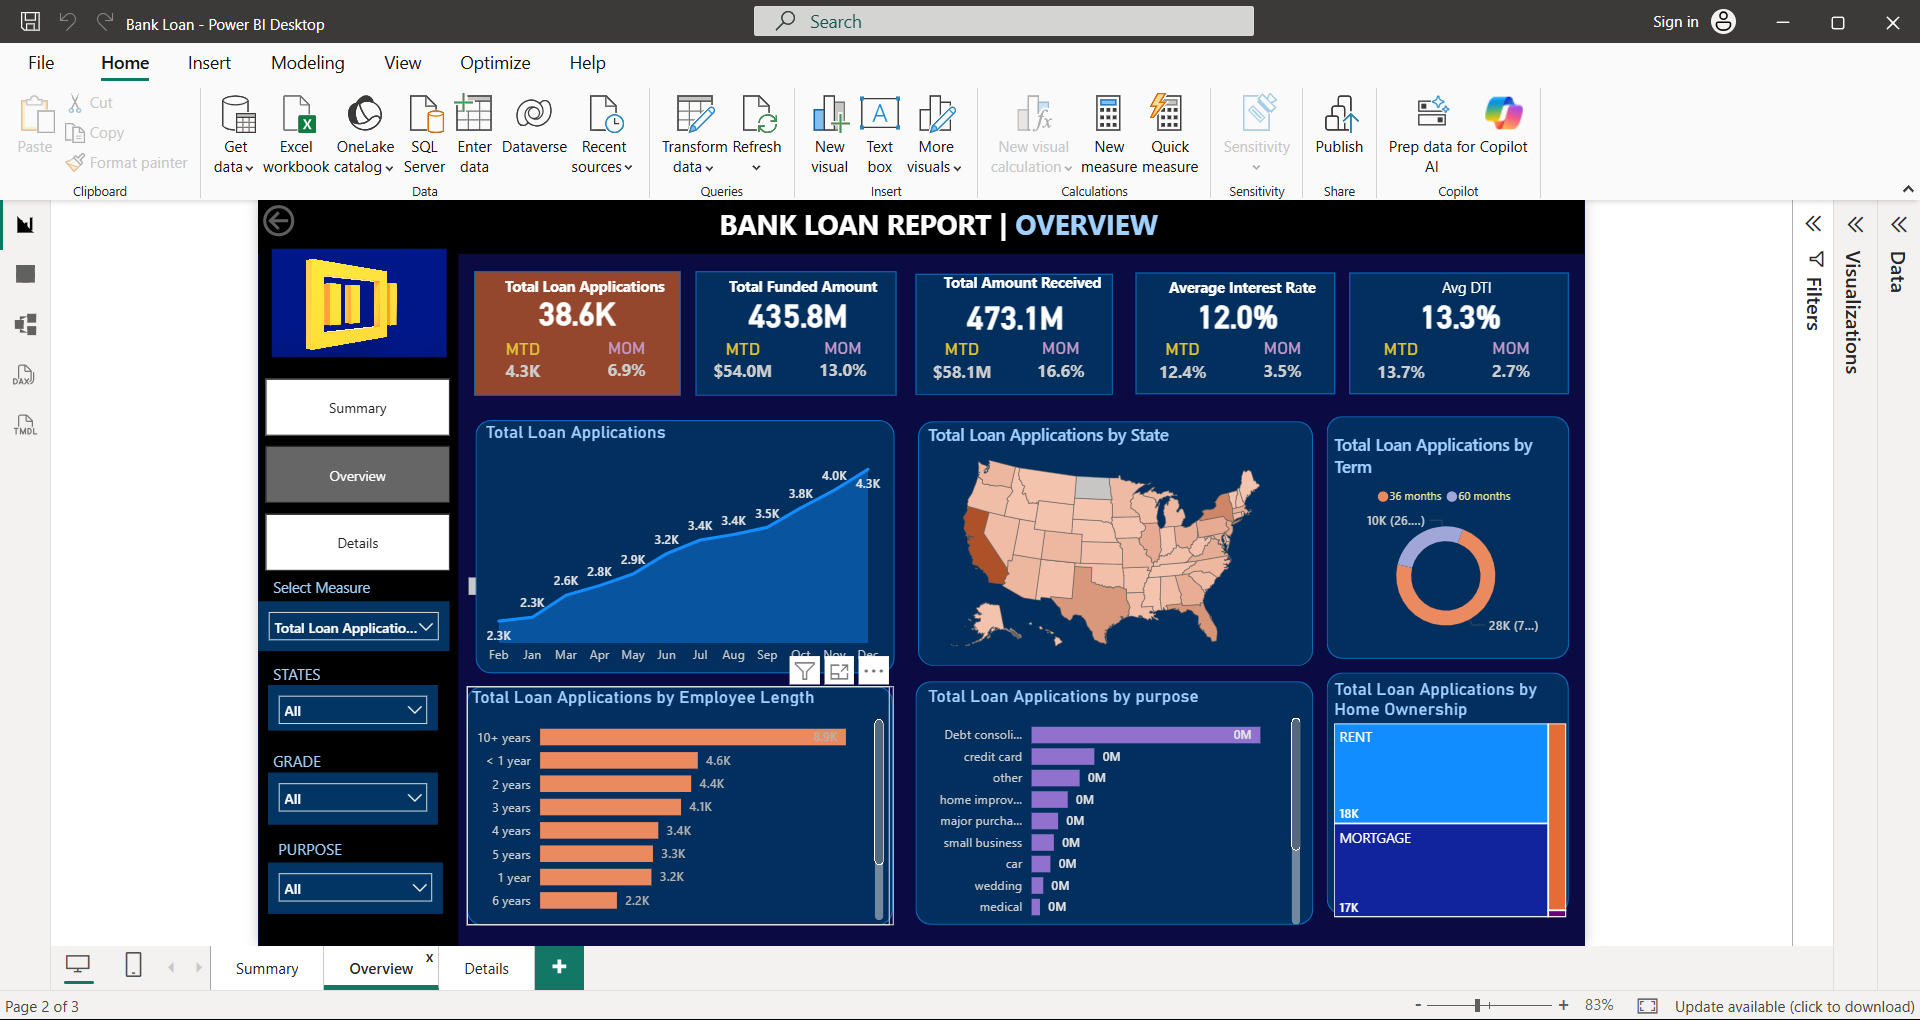

Layout of this report page (visuals, bound fields, positions):
{"tool":"powerbi","page":{"name":"Overview","canvas":[1280,720],"ordinal":1},"visuals":[{"type":"shape","box":[0,0,1280.3,52.1],"z":0},{"type":"shape","box":[209.1,68.3,199.1,120.2],"z":0,"group":"g1"},{"type":"shape","box":[422.2,68.3,194,120.2],"z":0,"group":"g2"},{"type":"shape","box":[847.1,69.7,192.7,117.5],"z":0,"group":"g4"},{"type":"shape","box":[1053.5,69.7,211.9,117.5],"z":0,"group":"g5"},{"type":"shape","box":[634.3,71.4,190.5,117.2],"z":0,"group":"g3"},{"type":"shape","box":[1031.6,456.4,233.6,233.6],"z":0,"group":"g8"},{"type":"shape","box":[1.4,52.1,192.1,668.3],"z":1000},{"type":"card","fields":{"Values":["bank_loan_data.Total Loan Applications"]},"box":[237.1,75.4,143,65.1],"z":1000,"group":"g1"},{"type":"card","fields":{"Values":["bank_loan_data.TOTAL FUNDED AMOUNT"]},"box":[444.7,81.6,152.1,56.6],"z":1000,"group":"g2"},{"type":"card","fields":{"Values":["bank_loan_data.AVG INTEREST RATE"]},"box":[869.4,82.7,151.1,55.3],"z":1000,"group":"g4"},{"type":"card","fields":{"Values":["bank_loan_data.Total Funded Amount"]},"box":[1078.1,82.7,166.1,55.3],"z":1000,"group":"g5"},{"type":"card","fields":{"Values":["bank_loan_data.TOTAL RECIEVED AMOUNT"]},"box":[656.4,84.3,149.4,55.1],"z":1000,"group":"g3"},{"type":"treemap","fields":{"Values":["bank_loan_data.Total Loan Applications"],"Group":["bank_loan_data.home_ownership"]},"box":[1033.5,462.7,233.6,235],"z":1000,"group":"g8"},{"type":"textbox","box":[628.5,65.6,218.6,35.2],"z":2000,"group":"g3"},{"type":"textbox","box":[209.1,68.3,213.2,39.6],"z":2000,"group":"g1"},{"type":"textbox","box":[422.2,68.3,207.7,39.6],"z":2000,"group":"g2"},{"type":"textbox","box":[847.1,69.7,206.3,38.7],"z":2000,"group":"g4"},{"type":"textbox","box":[1053.5,69.7,226.8,38.7],"z":2000,"group":"g5"},{"type":"textbox","box":[9.6,359.4,206.3,27.3],"z":2000},{"type":"shape","box":[634,464.6,383.9,235],"z":2000,"group":"g9"},{"type":"textbox","box":[440.5,0,481.6,52.1],"z":3000},{"type":"card","title":"MTD","fields":{"Values":["bank_loan_data.MTD AVG INT RATE"]},"box":[847.1,133.3,90.9,45.6],"z":3000,"group":"g4"},{"type":"card","title":"MTD","fields":{"Values":["bank_loan_data.MTD AVG DTI"]},"box":[1053.5,133.3,100,45.6],"z":3000,"group":"g5"},{"type":"card","title":"MTD","fields":{"Values":["bank_loan_data.MTD LOAN APPLICATIONS"]},"box":[209.1,133.4,94,46.7],"z":3000,"group":"g1"},{"type":"card","title":"MTD","fields":{"Values":["bank_loan_data.MTD FUNDED AMOUNT"]},"box":[422.2,133.4,91.5,46.7],"z":3000,"group":"g2"},{"type":"card","title":"MTD","fields":{"Values":["bank_loan_data.MTD TOTAL Recieved  AMOUNT"]},"box":[634.3,134.8,89.9,45.5],"z":3000,"group":"g3"},{"type":"group","id":"g1","title":"Group 1","box":[209.1,68.3,213.2,120.2],"z":4000},{"type":"card","title":"MOM","fields":{"Values":["bank_loan_data.MOM AVG INT T"]},"box":[943.5,131.9,90.9,45.6],"z":4000,"group":"g4"},{"type":"card","title":"MOM","fields":{"Values":["bank_loan_data.MOM AVG DTI"]},"box":[1159.4,131.9,100,45.6],"z":4000,"group":"g5"},{"type":"card","title":"MOM","fields":{"Values":["bank_loan_data.MOM LOAN APPLICATIONS"]},"box":[308.7,132,94,46.7],"z":4000,"group":"g1"},{"type":"card","title":"MOM","fields":{"Values":["bank_loan_data.MOM FUNDED AMOUNT"]},"box":[519.2,132,91.5,46.7],"z":4000,"group":"g2"},{"type":"card","title":"MOM","fields":{"Values":["bank_loan_data.MOM received AMOUNT"]},"box":[729.6,133.4,89.9,45.5],"z":4000,"group":"g3"},{"type":"group","id":"g2","title":"Group 1","box":[422.2,68.3,207.7,120.2],"z":5000},{"type":"group","id":"g3","title":"Group 1","box":[628.5,65.6,218.6,123],"z":6000},{"type":"group","id":"g4","title":"Group 1","box":[847.1,69.7,206.3,117.5],"z":7000},{"type":"group","id":"g5","title":"Group 1","box":[1053.5,69.7,226.8,117.5],"z":8000},{"type":"actionButton","box":[0,0,100,40],"z":9000},{"type":"slicer","fields":{"Values":["bank_loan_data.address_state"]},"box":[9.6,468.7,164,43.7],"z":10000},{"type":"textbox","box":[9.6,442.7,82,69.7],"z":11000},{"type":"textbox","box":[9.6,526,103.8,61.5],"z":12000},{"type":"shape","box":[210.4,211.8,404.4,244.6],"z":13000},{"type":"slicer","fields":{"Values":["bank_loan_data.grade"]},"box":[9.6,552,164,50.6],"z":14000},{"type":"slicer","fields":{"Values":["bank_loan_data.purpose"]},"box":[9.6,639.5,168.8,49.4],"z":15000},{"type":"textbox","box":[15,612.1,84.7,42.4],"z":16000},{"type":"areaChart","fields":{"Y":["bank_loan_data.Total Loan Applications"],"Category":["Date Table.MONTH"]},"box":[214.5,213.2,392.1,243.2],"z":17000},{"type":"slicer","fields":{"Values":["Select Measure.Select Measure"]},"box":[0,386.7,184.5,47.8],"z":18000},{"type":"group","id":"g6","title":"Group 2","box":[1031.6,209.1,233.6,235],"z":19000},{"type":"shape","box":[636.6,213,381.2,236.4],"z":19000,"group":"g7"},{"type":"group","id":"g7","title":"Group 3","box":[636.6,213,381.2,236.4],"z":20000},{"type":"shapeMap","fields":{"Value":["bank_loan_data.Total Loan Applications"],"Category":["bank_loan_data.address_state"]},"box":[641.3,214.7,352.5,230.9],"z":20000,"group":"g7"},{"type":"shape","box":[1031.6,209.1,234,234],"z":21000,"group":"g6"},{"type":"group","id":"g8","title":"Group 4","box":[1031.6,456.4,235.6,241.3],"z":21000},{"type":"donutChart","fields":{"Y":["bank_loan_data.Total Loan Applications"],"Category":["bank_loan_data.term"]},"box":[1034.6,225,225.4,206.3],"z":22000,"group":"g6"},{"type":"group","id":"g9","title":"Group 5","box":[634,464.6,383.9,240.5],"z":22000},{"type":"group","id":"g10","title":"Group 6","box":[201.1,469.3,411.3,230.9],"z":23000},{"type":"shape","box":[201.1,469.3,411.3,230.9],"z":23000,"group":"g10"},{"type":"pageNavigator","box":[6.8,172.2,179,187.2],"z":24000},{"type":"image","box":[13.3,47.1,168.9,105],"z":25000},{"type":"barChart","fields":{"Y":["bank_loan_data.Total Loan Applications"],"Category":["bank_loan_data.emp_length"]},"box":[201.1,469.3,407.2,230.9],"z":25000,"group":"g10"},{"type":"barChart","fields":{"Y":["bank_loan_data.Total Loan Applications"],"Category":["bank_loan_data.purpose"]},"box":[641.4,468.7,369.2,236.4],"z":26000,"group":"g9"}]}

Visuals, with their boxes on the page's 1280x720 design canvas (x1, y1, x2, y2). These are canvas units, not pixel positions in the 1920x1020 screenshot, which may show the page scaled, cropped or inside an application window:
shape: (0, 0, 1280, 52)
shape: (209, 68, 408, 188)
shape: (422, 68, 616, 188)
shape: (847, 70, 1040, 187)
shape: (1054, 70, 1265, 187)
shape: (634, 71, 825, 189)
shape: (1032, 456, 1265, 690)
shape: (1, 52, 194, 720)
card - bank_loan_data.Total Loan Applications: (237, 75, 380, 140)
card - bank_loan_data.TOTAL FUNDED AMOUNT: (445, 82, 597, 138)
card - bank_loan_data.AVG INTEREST RATE: (869, 83, 1020, 138)
card - bank_loan_data.Total Funded Amount: (1078, 83, 1244, 138)
card - bank_loan_data.TOTAL RECIEVED AMOUNT: (656, 84, 806, 139)
treemap - bank_loan_data.Total Loan Applications x bank_loan_data.home_ownership: (1034, 463, 1267, 698)
textbox: (628, 66, 847, 101)
textbox: (209, 68, 422, 108)
textbox: (422, 68, 630, 108)
textbox: (847, 70, 1053, 108)
textbox: (1054, 70, 1280, 108)
textbox: (10, 359, 216, 387)
shape: (634, 465, 1018, 700)
textbox: (440, 0, 922, 52)
"MTD" card: (847, 133, 938, 179)
"MTD" card: (1054, 133, 1154, 179)
"MTD" card: (209, 133, 303, 180)
"MTD" card: (422, 133, 514, 180)
"MTD" card: (634, 135, 724, 180)
"Group 1" group: (209, 68, 422, 188)
"MOM" card: (944, 132, 1034, 178)
"MOM" card: (1159, 132, 1259, 178)
"MOM" card: (309, 132, 403, 179)
"MOM" card: (519, 132, 611, 179)
"MOM" card: (730, 133, 820, 179)
"Group 1" group: (422, 68, 630, 188)
"Group 1" group: (628, 66, 847, 189)
"Group 1" group: (847, 70, 1053, 187)
"Group 1" group: (1054, 70, 1280, 187)
actionButton: (0, 0, 100, 40)
slicer - bank_loan_data.address_state: (10, 469, 174, 512)
textbox: (10, 443, 92, 512)
textbox: (10, 526, 113, 588)
shape: (210, 212, 615, 456)
slicer - bank_loan_data.grade: (10, 552, 174, 603)
slicer - bank_loan_data.purpose: (10, 640, 178, 689)
textbox: (15, 612, 100, 654)
areaChart - bank_loan_data.Total Loan Applications x Date Table.MONTH: (214, 213, 607, 456)
slicer - Select Measure.Select Measure: (0, 387, 184, 434)
"Group 2" group: (1032, 209, 1265, 444)
shape: (637, 213, 1018, 449)
"Group 3" group: (637, 213, 1018, 449)
shapeMap - bank_loan_data.Total Loan Applications x bank_loan_data.address_state: (641, 215, 994, 446)
shape: (1032, 209, 1266, 443)
"Group 4" group: (1032, 456, 1267, 698)
donutChart - bank_loan_data.Total Loan Applications x bank_loan_data.term: (1035, 225, 1260, 431)
"Group 5" group: (634, 465, 1018, 705)
"Group 6" group: (201, 469, 612, 700)
shape: (201, 469, 612, 700)
pageNavigator: (7, 172, 186, 359)
image: (13, 47, 182, 152)
barChart - bank_loan_data.Total Loan Applications x bank_loan_data.emp_length: (201, 469, 608, 700)
barChart - bank_loan_data.Total Loan Applications x bank_loan_data.purpose: (641, 469, 1011, 705)
